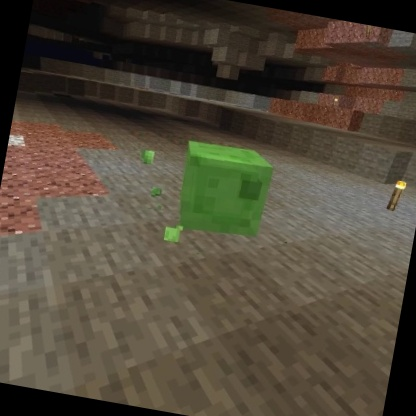slime: (169, 134, 280, 246)
